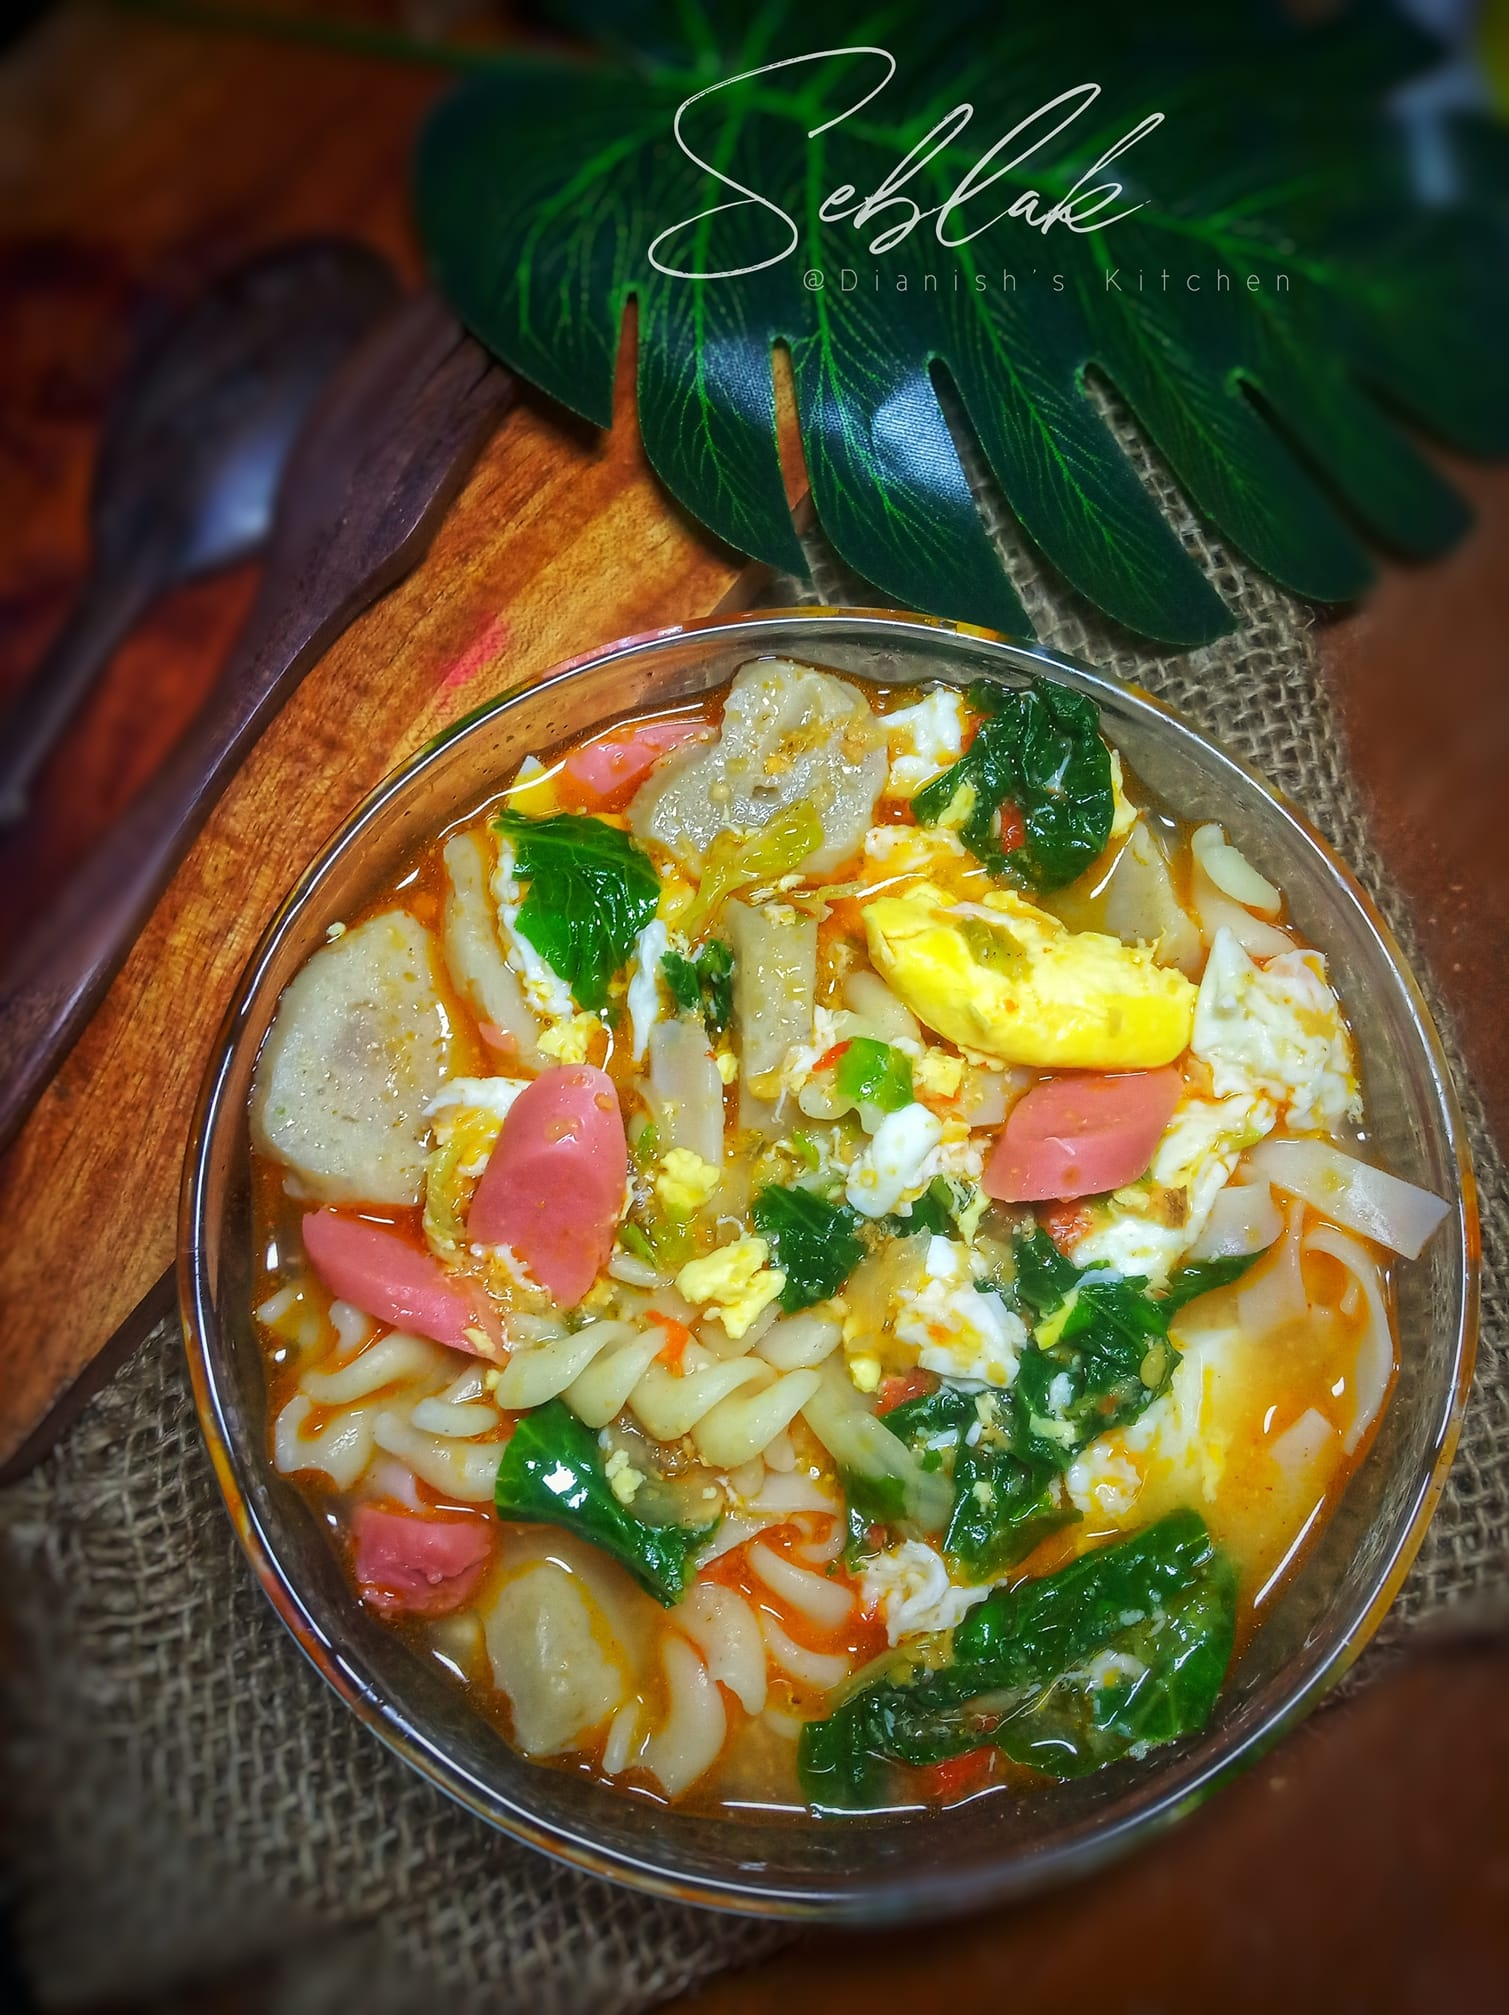seblak: (249, 656, 1452, 1845)
